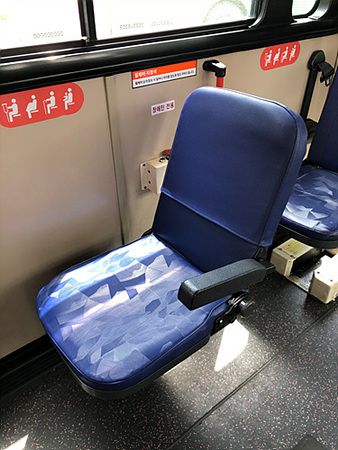seat: (34, 87, 309, 395)
